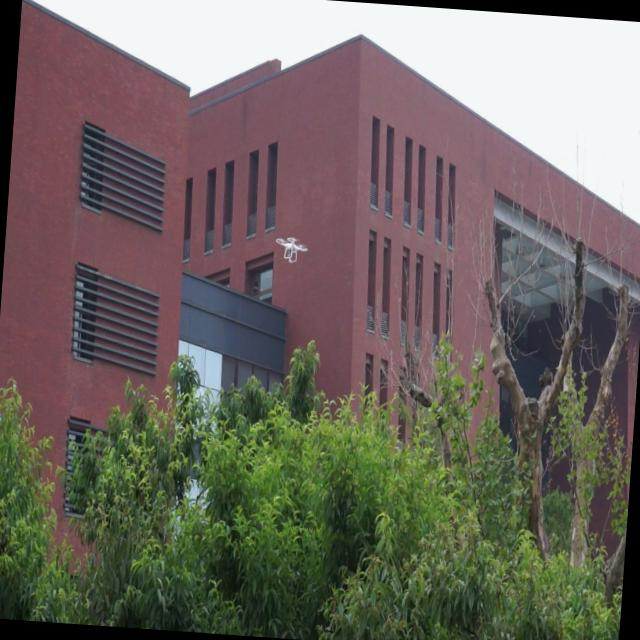drone: (274, 230, 308, 266)
